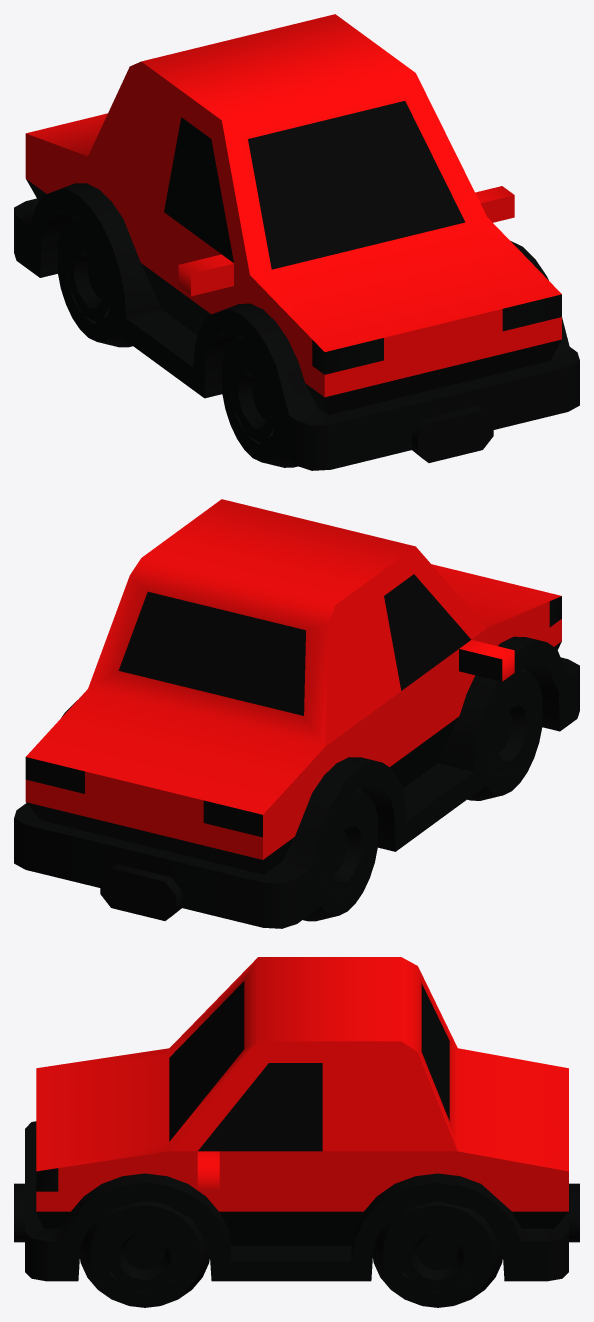
The model's file is sedan.glb.
3 renders of one model, top to bottom at view 1: azimuth 30°, elevation 25°; view 2: azimuth 150°, elevation 25°; view 3: azimuth 270°, elevation 25°, orthographic. The views are drawn at different scales.
Visible parts, largest first — view 1: body, wheel-back-right, wheel-front-right; view 2: body, wheel-front-right, wheel-back-right; view 3: body, wheel-front-left, wheel-back-left.
Boxes of the visible parts, x1,y1,x2,y2 form: body: (14, 14, 579, 470); wheel-back-right: (57, 214, 132, 347); wheel-front-right: (222, 335, 297, 467); body: (14, 499, 579, 928); wheel-front-right: (467, 668, 542, 800); wheel-back-right: (303, 788, 377, 921); body: (14, 957, 579, 1281); wheel-front-left: (80, 1201, 209, 1307); wheel-back-left: (373, 1201, 502, 1307).
Bounding box in the file's own units: 1.5 × 1.3 × 2.55.
Materials: 1 (1 with a texture image).
